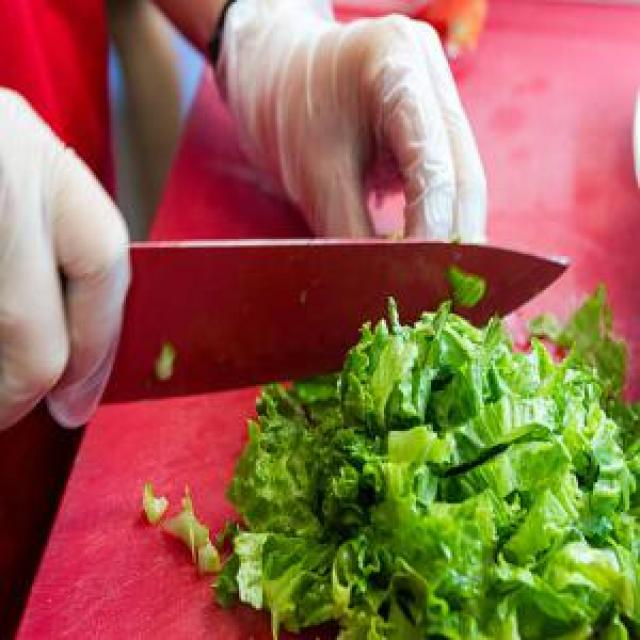knife: (0, 239, 571, 406)
